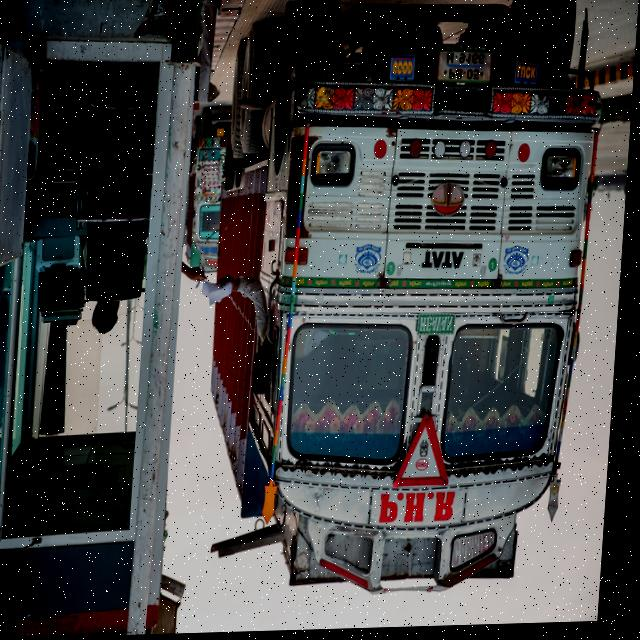plate: (437, 49, 494, 89)
